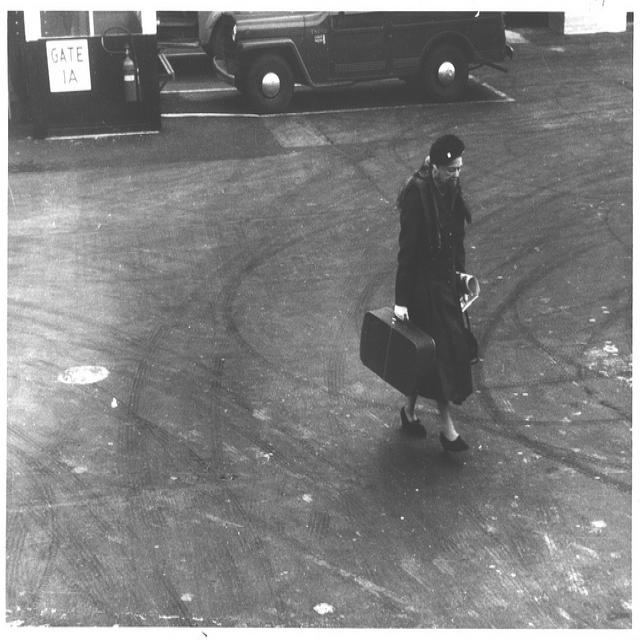Vehicle: (199, 12, 515, 109)
